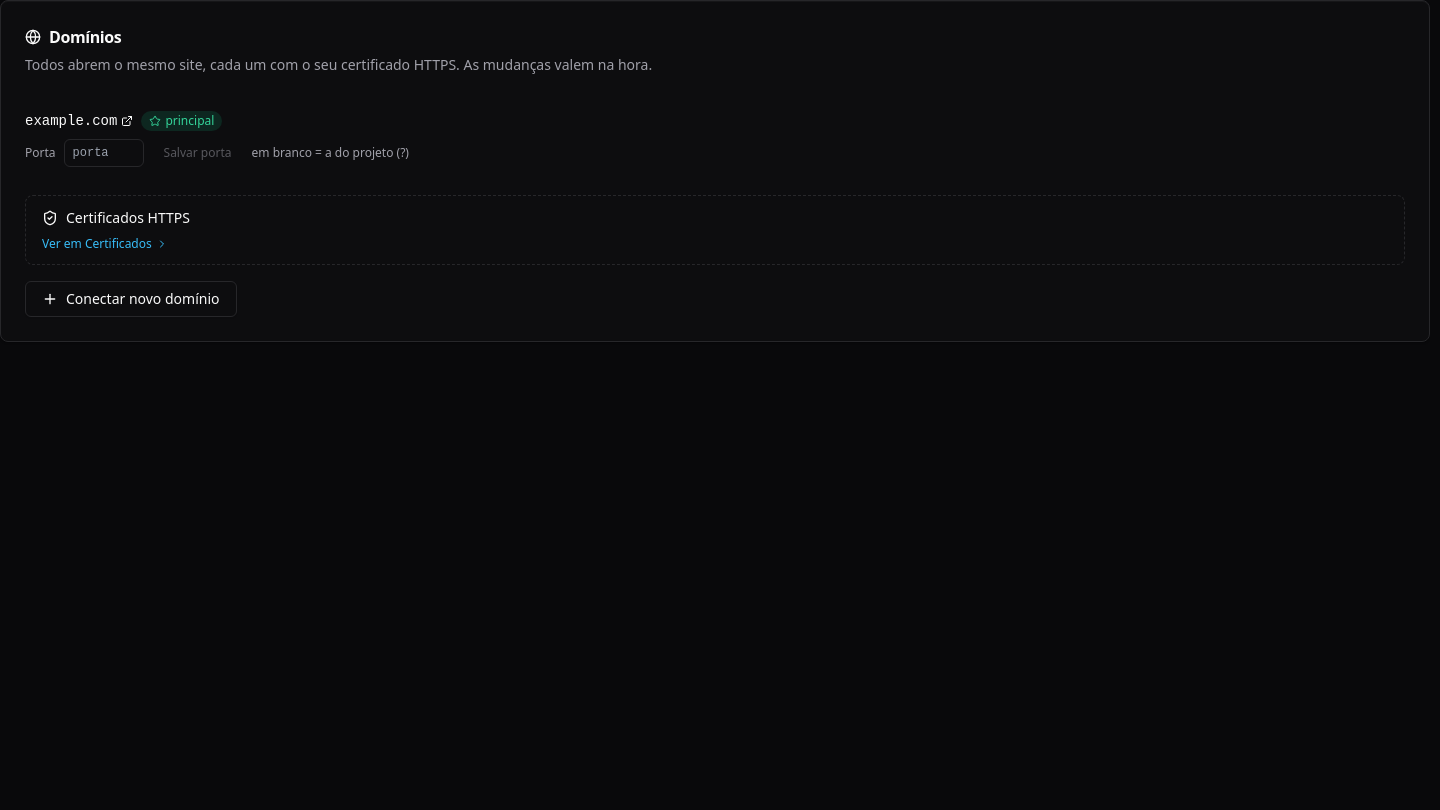
Scenario: Conectar novo domínio › conectar com sucesso salva, fecha, devolve a rolagem, avisa e pede a lista de novo
This screenshot has width=1440, height=810.
Click the button "Conectar novo domínio".
click(131, 299)  # box left=25, top=281, right=236, bottom=317
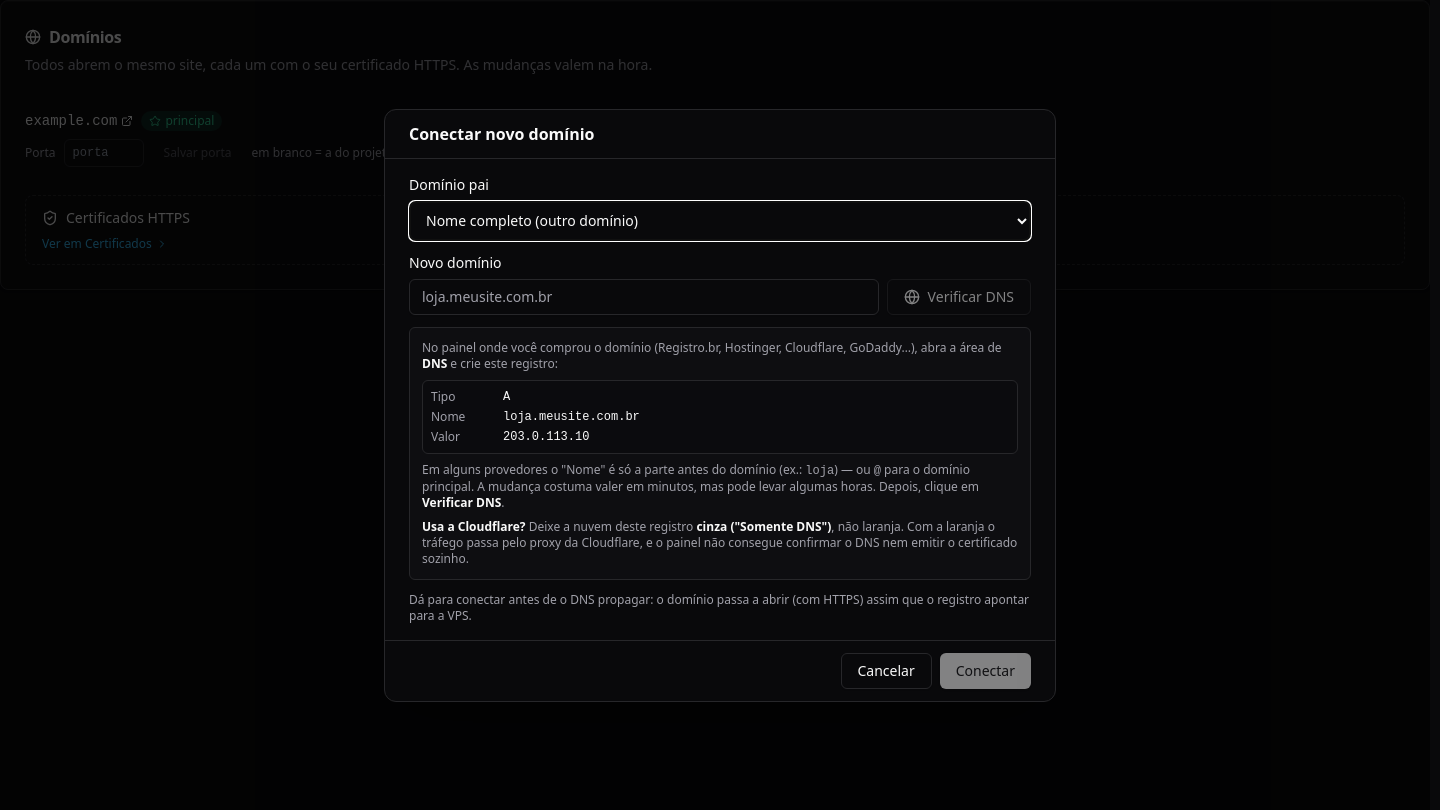
Type "app.example.com" into the field labelled "Novo domínio Verificar DNS".
click(644, 296); type("app.example.com")  # box left=409, top=278, right=879, bottom=314
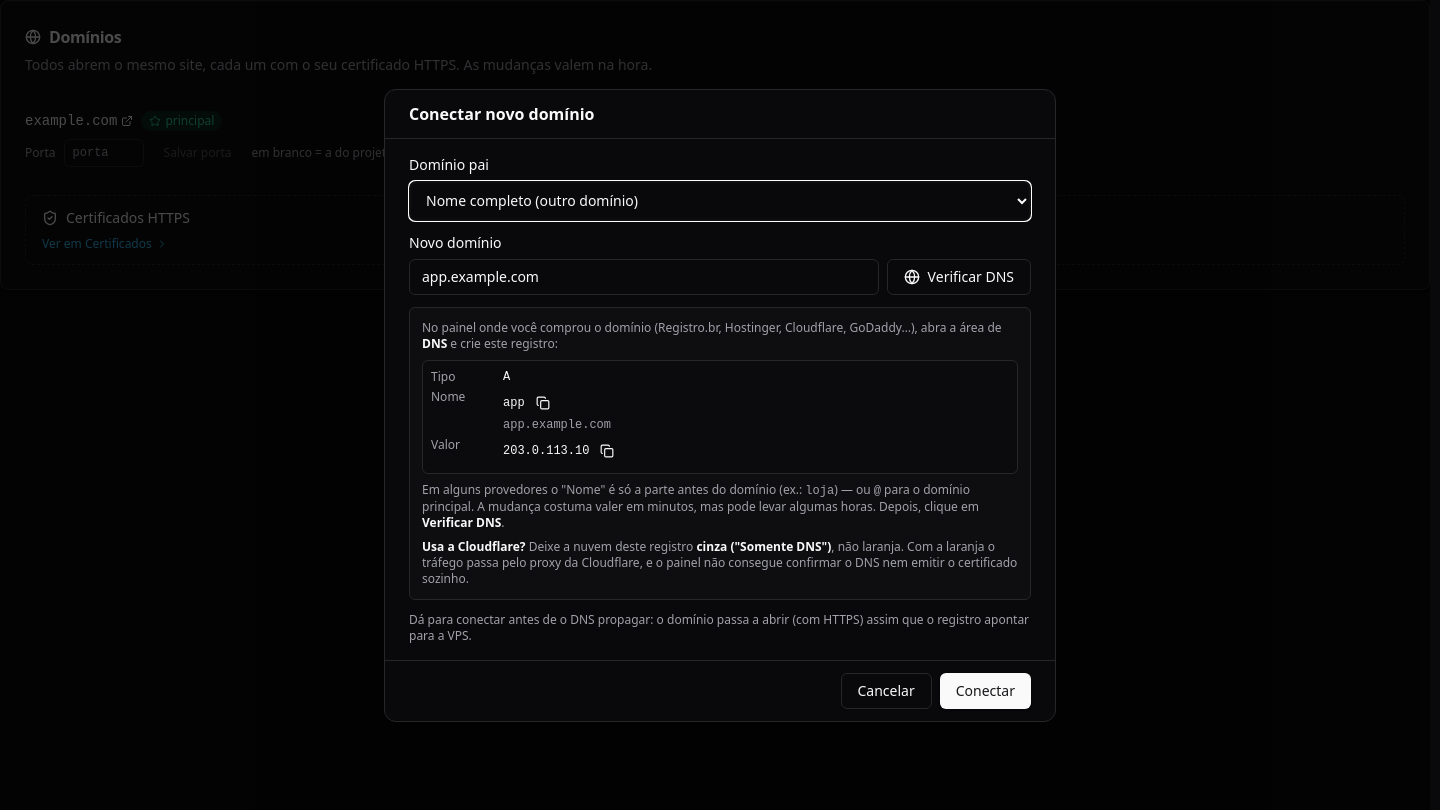
Click the button "Conectar".
click(985, 690)  # box left=940, top=672, right=1031, bottom=708
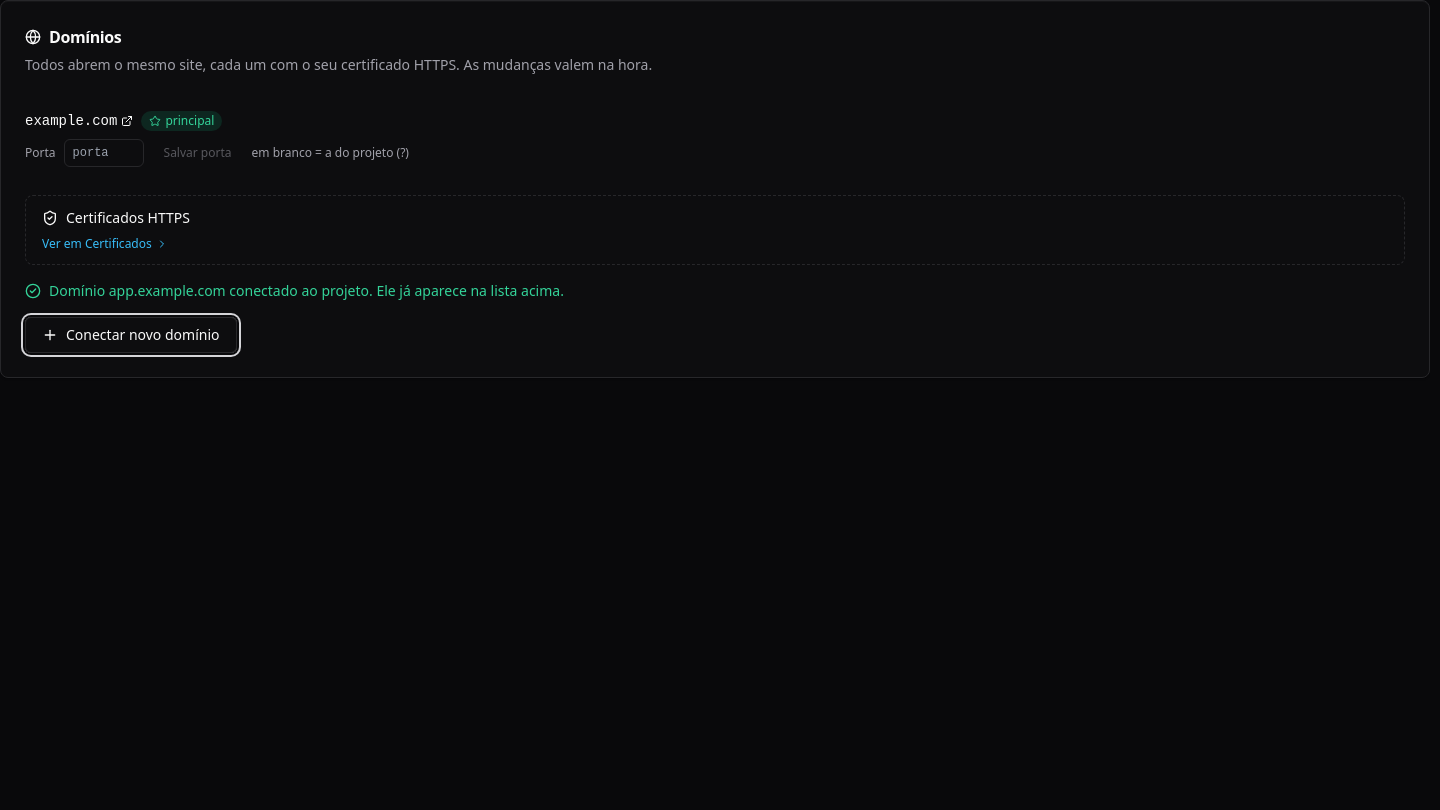
Expected: the dialog with test id "modal-panel" is gone
Expected: the message shows "app.example.com", left=49, top=281, right=564, bottom=300
